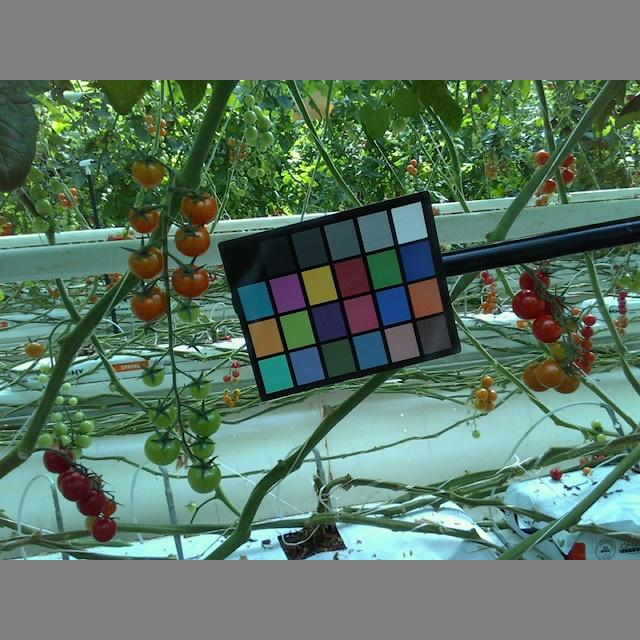green: (145, 431, 181, 464), (186, 461, 223, 493), (187, 406, 221, 436), (146, 400, 176, 428), (189, 435, 215, 461), (175, 299, 201, 324), (139, 365, 167, 387), (188, 374, 212, 399)
pink: (130, 285, 168, 321), (180, 190, 218, 225), (173, 221, 211, 256), (125, 245, 164, 278), (172, 264, 210, 296), (130, 158, 164, 188), (126, 203, 159, 231), (536, 357, 566, 386)
red: (533, 310, 566, 342), (513, 288, 546, 319), (42, 444, 75, 474), (62, 470, 93, 501), (73, 487, 104, 518), (90, 516, 118, 541)
